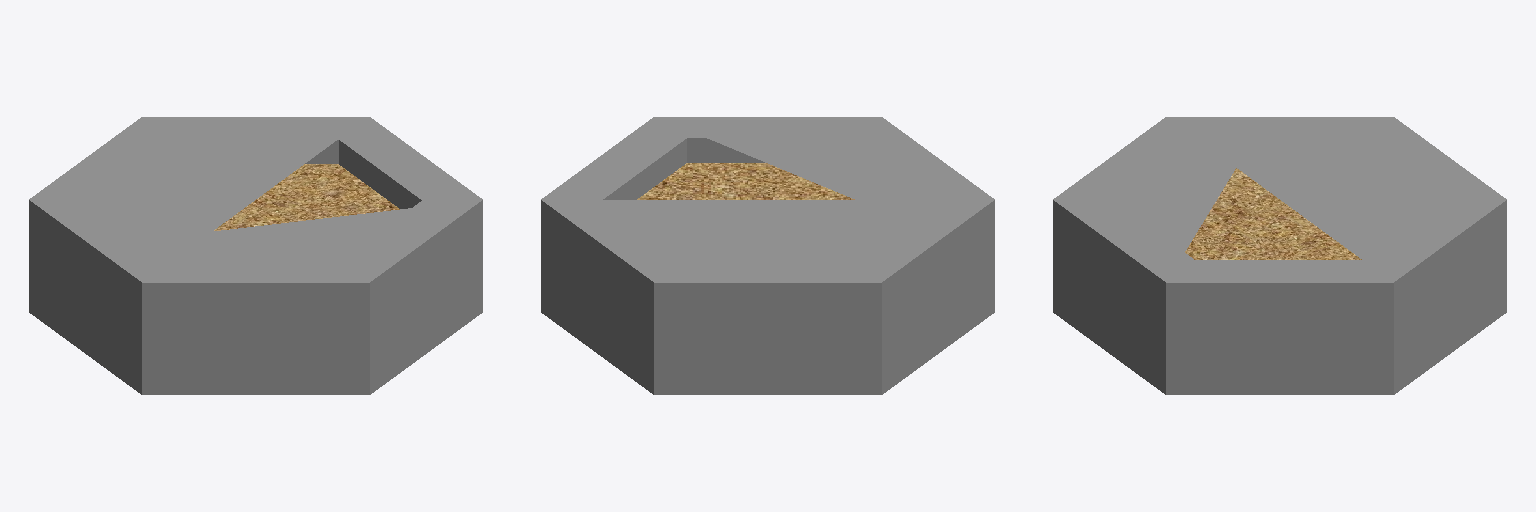
The picture shows the model from 3 angles: view 1: azimuth 30°, elevation 25°; view 2: azimuth 150°, elevation 25°; view 3: azimuth 270°, elevation 25°; orthographic projection.
Visible parts, largest first — view 1: Cylinder; view 2: Cylinder; view 3: Cylinder.
Boxes of the visible parts, box(x1,y1,x2,y2) form: Cylinder: box(29, 117, 482, 394); Cylinder: box(541, 117, 994, 394); Cylinder: box(1053, 117, 1506, 394).
Size of the model in its own units: 1.73 by 0.5472 by 2.
Materials: 3 (1 with a texture image).